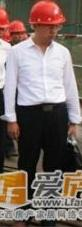boots: (0, 176, 13, 190), (0, 160, 10, 174)
hard-hat: (27, 0, 66, 25)
ppe-suit: (0, 25, 34, 190)
